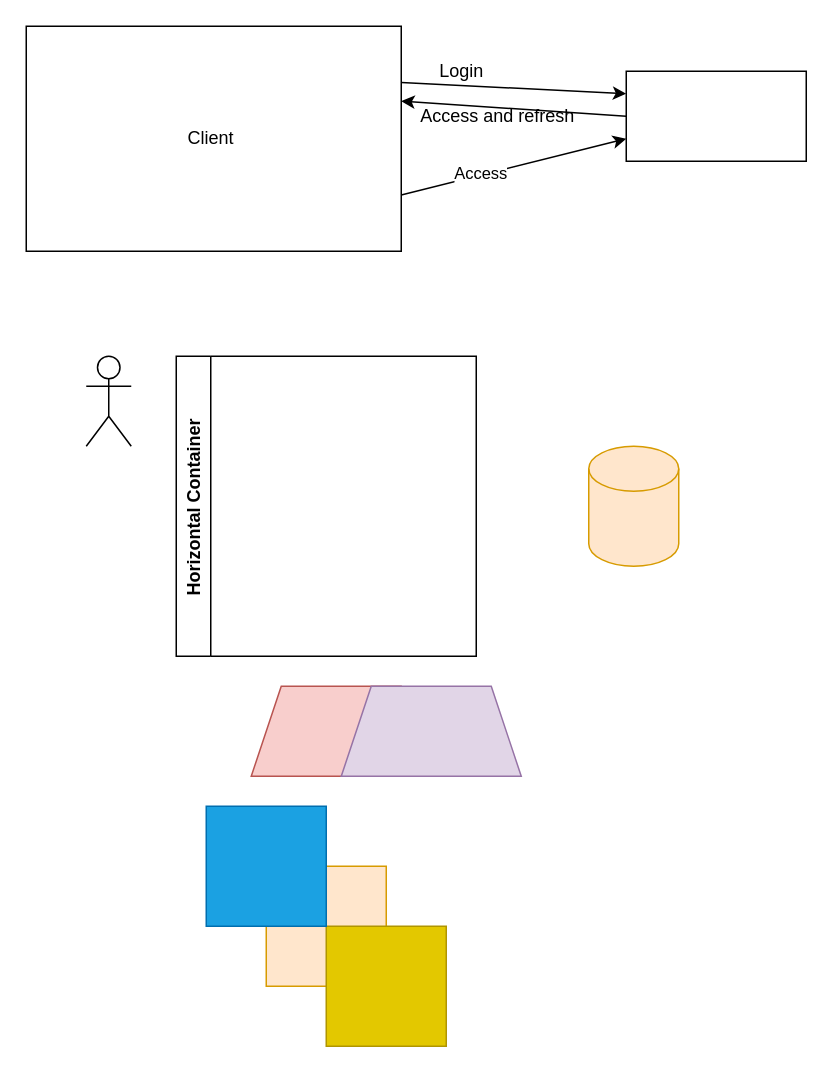
Some shapes in this 833 by 1073 pixel diagram are drawn without their labels. Here are the shapes that lost their labels. From the top down, the box of each, then its label:
(625, 70, 806, 161): Server
(85, 355, 131, 446): Actor
